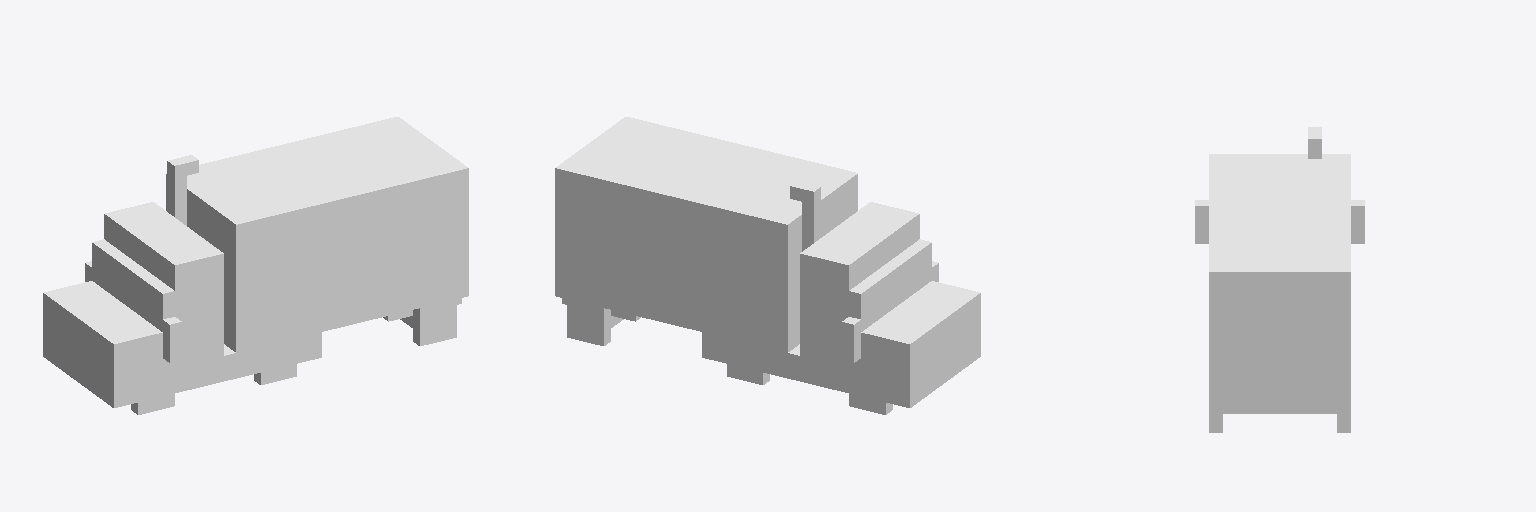
The model's file is truck1.obj.
3 renders of one model, left to right at view 1: azimuth 30°, elevation 25°; view 2: azimuth 150°, elevation 25°; view 3: azimuth 270°, elevation 25°, orthographic.
Parts seen in each view (by area): view 1: truck1.001; view 2: truck1.001; view 3: truck1.001.
Part boxes in pixels (bbox=[...]): truck1.001: bbox=[43, 117, 468, 414]; truck1.001: bbox=[555, 117, 980, 414]; truck1.001: bbox=[1195, 127, 1364, 432].
Bounding box in the file's own units: 2.9 × 1.5 × 1.2.